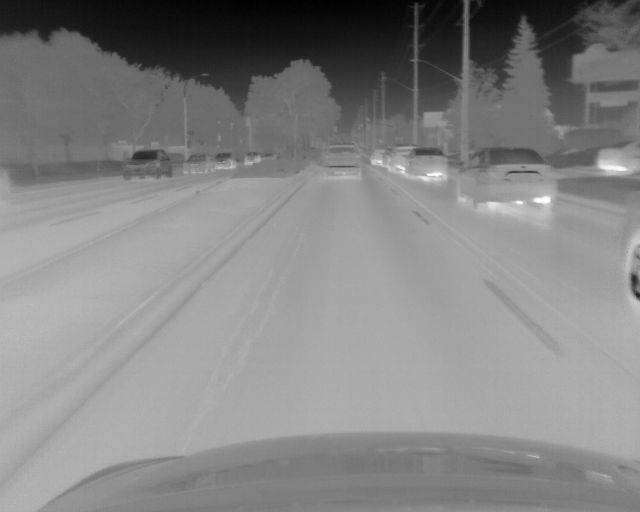car: (454, 146, 557, 213), (615, 182, 640, 315), (595, 139, 640, 174), (123, 150, 173, 180), (404, 147, 447, 181), (324, 144, 362, 180), (182, 153, 216, 175), (385, 144, 406, 172), (215, 152, 237, 170), (368, 149, 384, 165), (243, 151, 260, 166)
